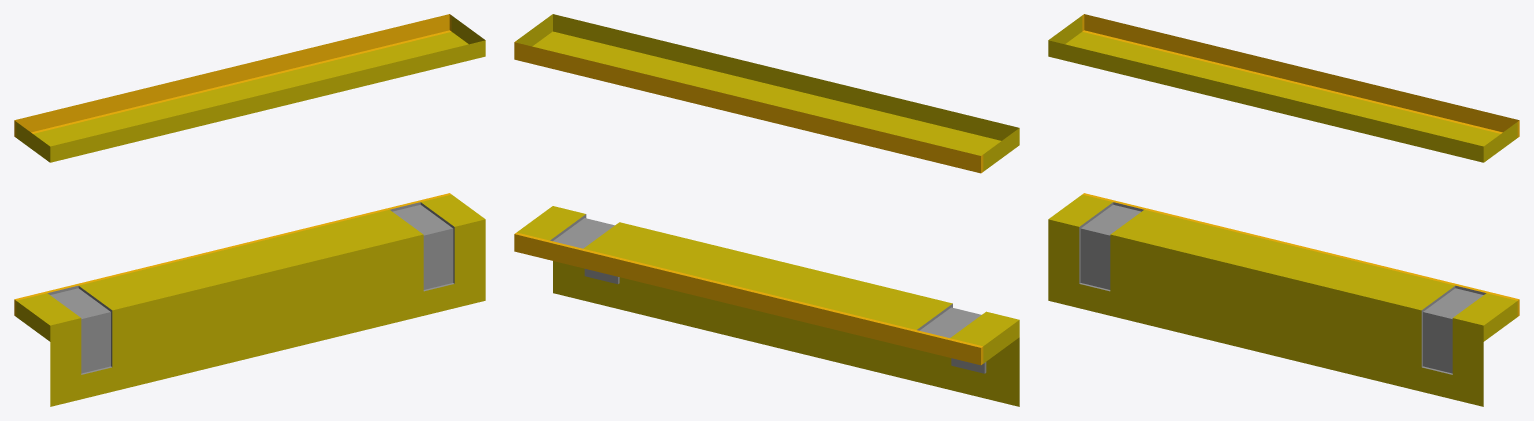
Rendered from door_manual_flush_inswing_7x3.dae.
3 views of the same model, side by side, from view 1: azimuth 30°, elevation 25°; view 2: azimuth 150°, elevation 25°; view 3: azimuth 330°, elevation 25° (orthographic). The views are drawn at different scales.
Visible parts, largest first — view 1: Cube; view 2: Cube; view 3: Cube.
Part boxes in pixels (box(x1,y1,x2,y2)): Cube: box(14, 14, 485, 406); Cube: box(514, 14, 1019, 406); Cube: box(1048, 14, 1519, 406).
Size of the model in its own units: 1.75 by 0.25 by 1.
